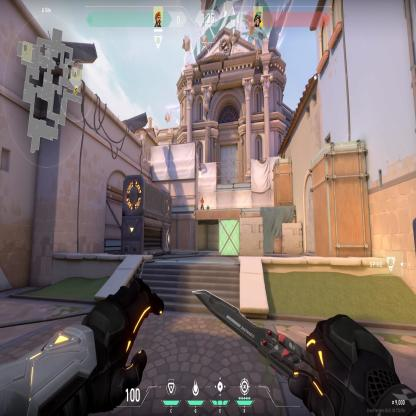enemy: (200, 195, 204, 210)
